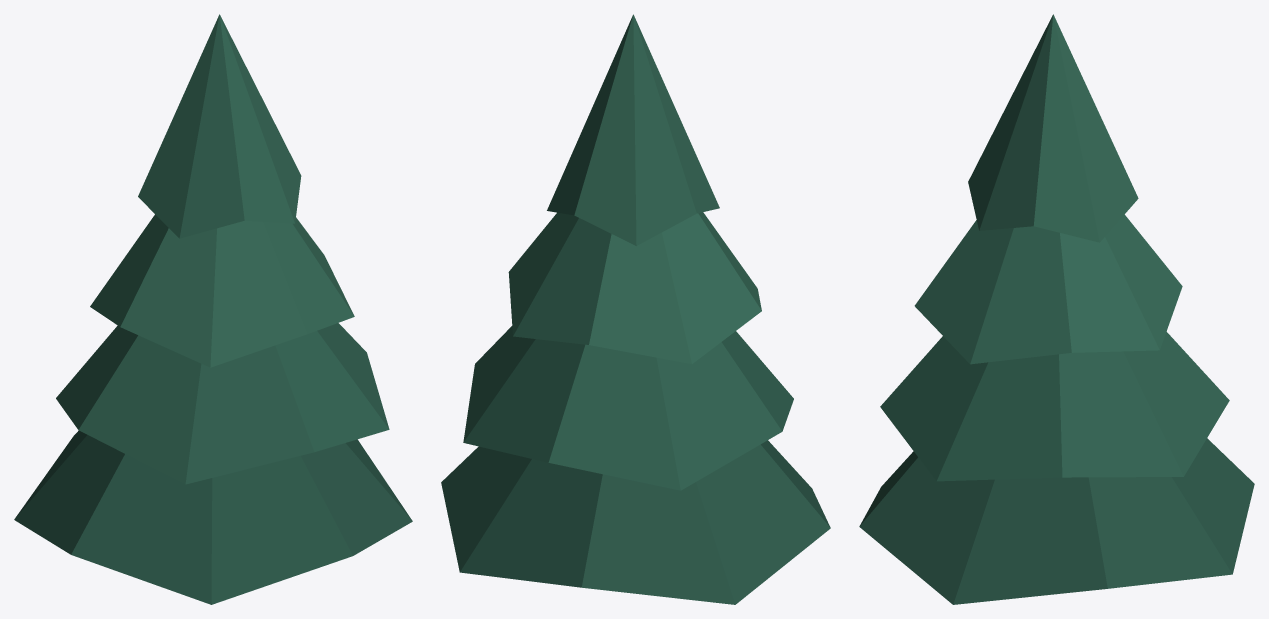
The model's file is tree-fir.glb.
3 views of the same model, side by side, from view 1: azimuth 30°, elevation 25°; view 2: azimuth 150°, elevation 25°; view 3: azimuth 270°, elevation 25° (orthographic). The views are drawn at different scales.
Visible parts, largest first — view 1: tree; view 2: tree; view 3: tree.
Boxes of the visible parts, bbox=[...] form: tree: bbox=[14, 14, 412, 604]; tree: bbox=[441, 14, 830, 604]; tree: bbox=[859, 14, 1254, 604].
Bounding box in the file's own units: 0.2034 × 0.32 × 0.2034.
